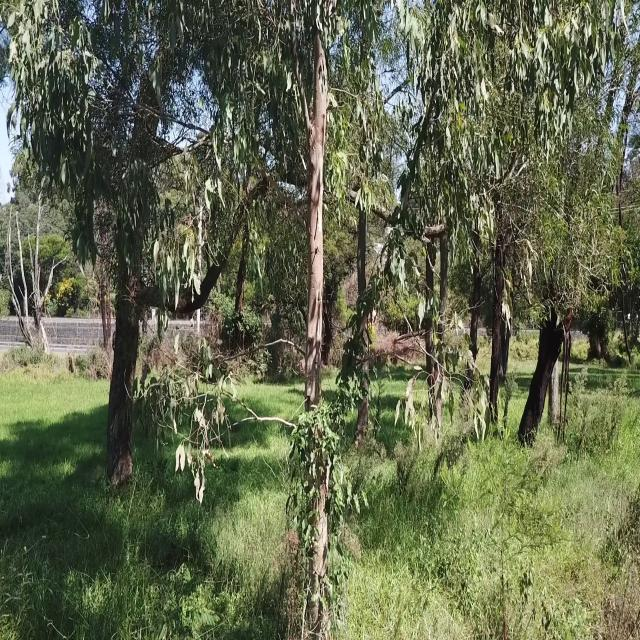Mysore-Thorn-Weed: (158, 561, 226, 640)
